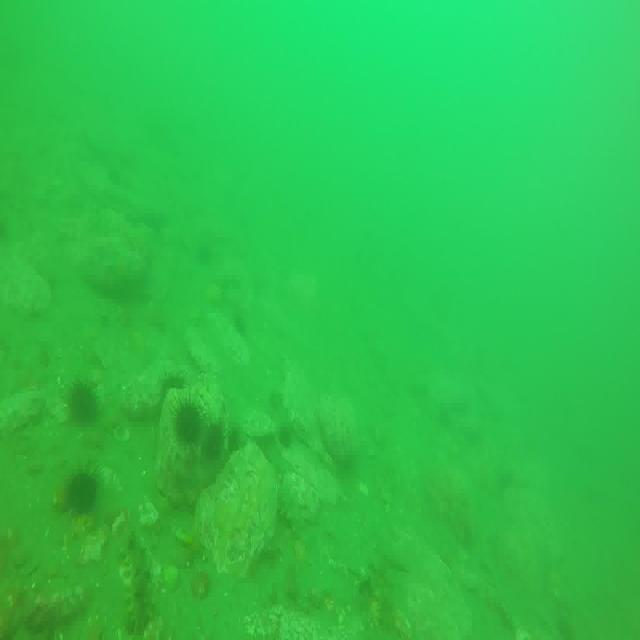echinus: (66, 467, 100, 515), (174, 394, 202, 446), (70, 380, 97, 424), (206, 421, 225, 459)
holothurian: (121, 529, 154, 639)
